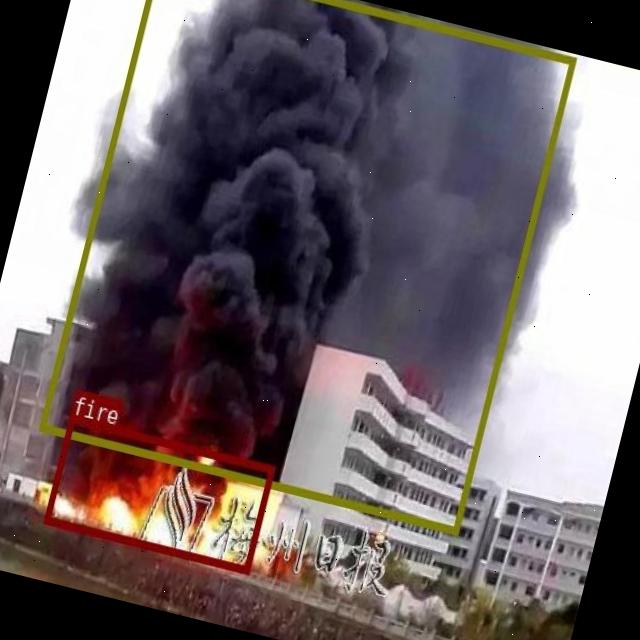fire: (44, 414, 274, 572)
smoke: (38, 0, 575, 532)
